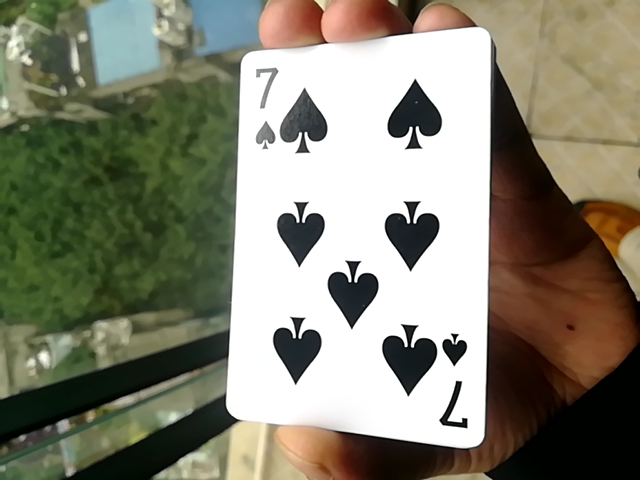ht 7: (233, 19, 479, 458)
